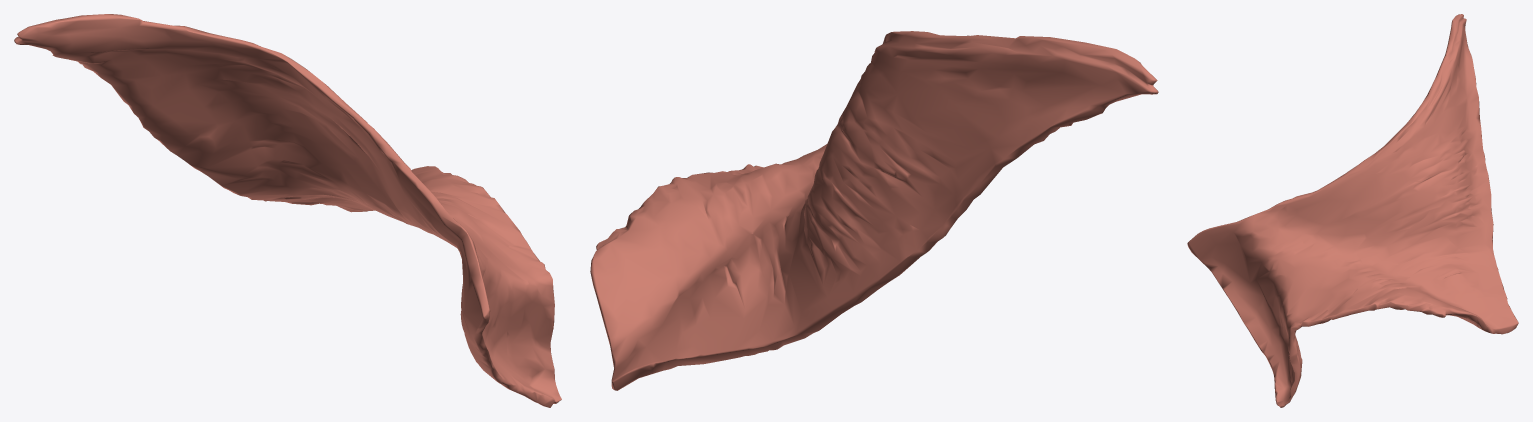
3 renders of one model, left to right at view 1: azimuth 30°, elevation 25°; view 2: azimuth 150°, elevation 25°; view 3: azimuth 270°, elevation 25°, orthographic. The views are drawn at different scales.
Parts seen in each view (by area): view 1: 右侧颈阔肌; view 2: 右侧颈阔肌; view 3: 右侧颈阔肌.
Boxes of the visible parts, x1,y1,x2,y2 form: 右侧颈阔肌: (14,14,561,407); 右侧颈阔肌: (590,31,1158,390); 右侧颈阔肌: (1187,14,1518,407).
Size of the model in its own units: 0.212 by 0.1834 by 0.2094.
